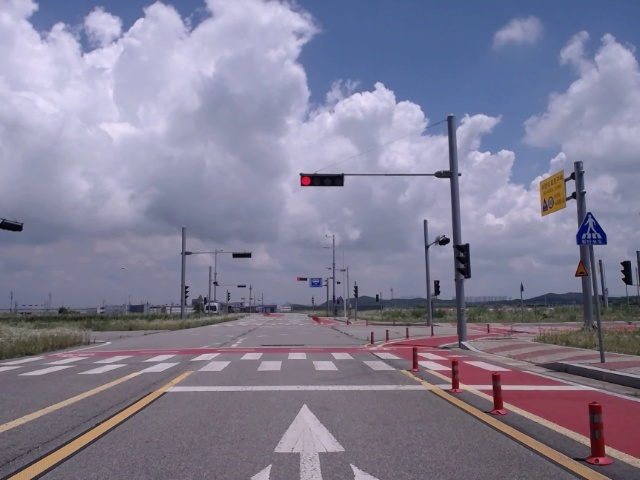red_4: (301, 175, 344, 186)
